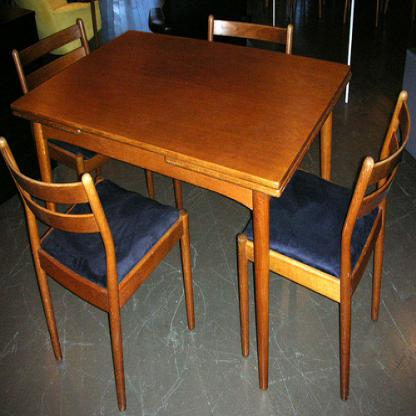chair: (235, 86, 409, 398), (0, 136, 195, 410), (12, 19, 154, 211), (206, 15, 294, 57)
diningtable: (9, 26, 351, 389)
